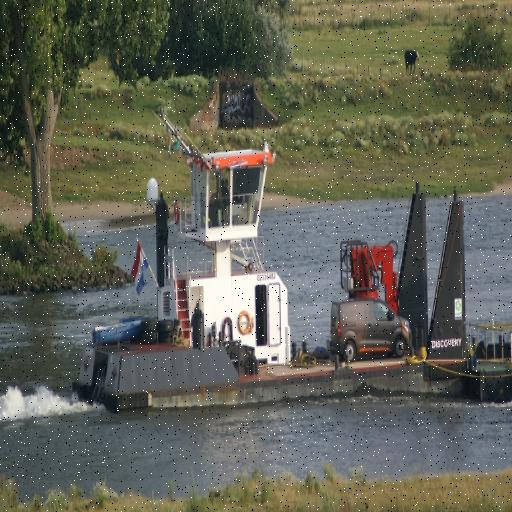tugboat: (71, 133, 473, 427)
